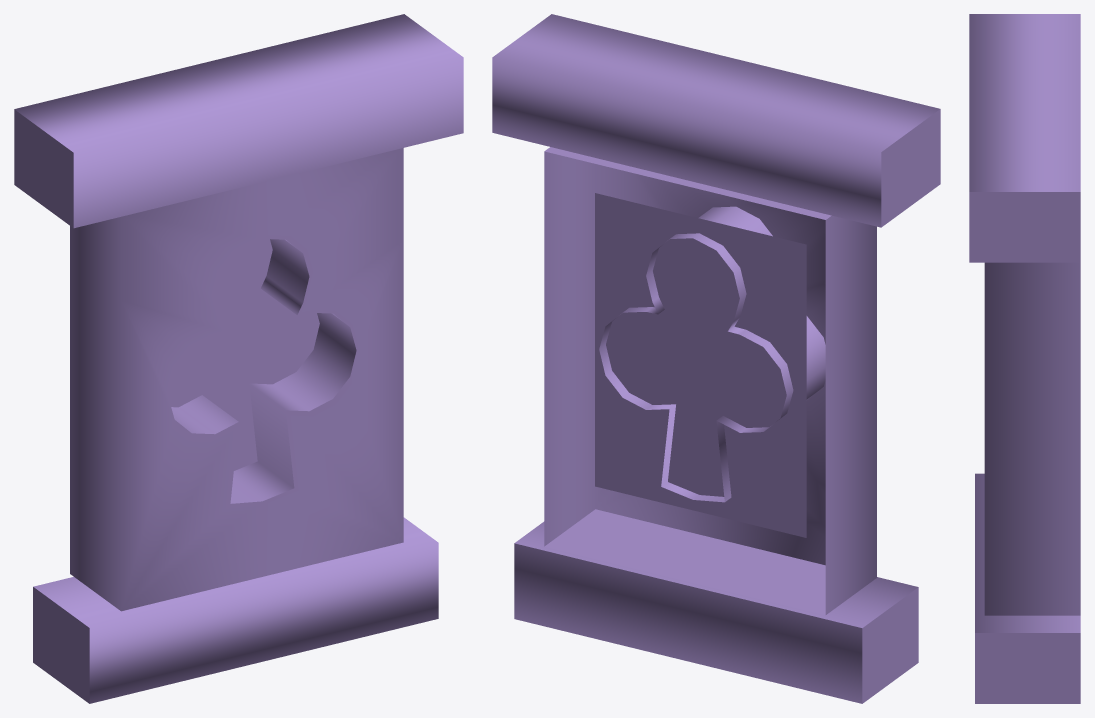
File: wallDeco_a.fbx
3 views of the same model, side by side, from view 1: azimuth 30°, elevation 25°; view 2: azimuth 150°, elevation 25°; view 3: azimuth 270°, elevation 25° (orthographic). The views are drawn at different scales.
Visible parts, largest first — view 1: Cube.005; view 2: Cube.005; view 3: Cube.005.
Boxes of the visible parts, box(x1,y1,x2,y2) form: Cube.005: box(14, 14, 463, 703); Cube.005: box(492, 14, 940, 703); Cube.005: box(969, 14, 1080, 703).
Size of the model in its own units: 1.22 by 1.66 by 0.3214.
